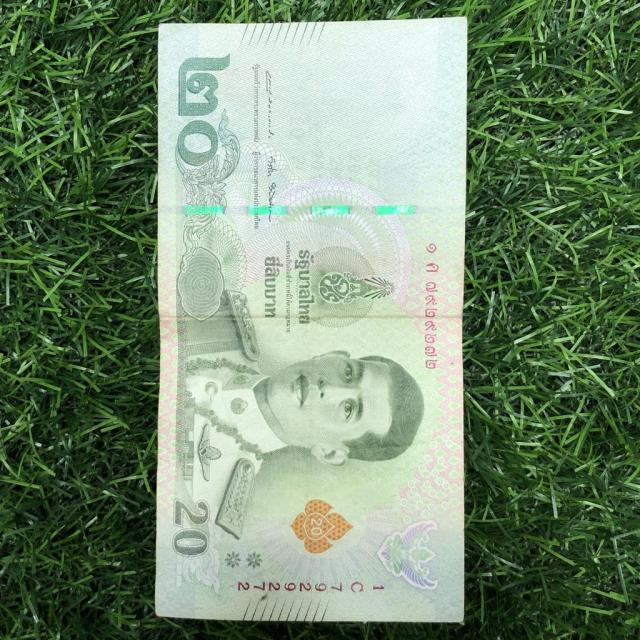THAI20: (156, 18, 465, 620)
